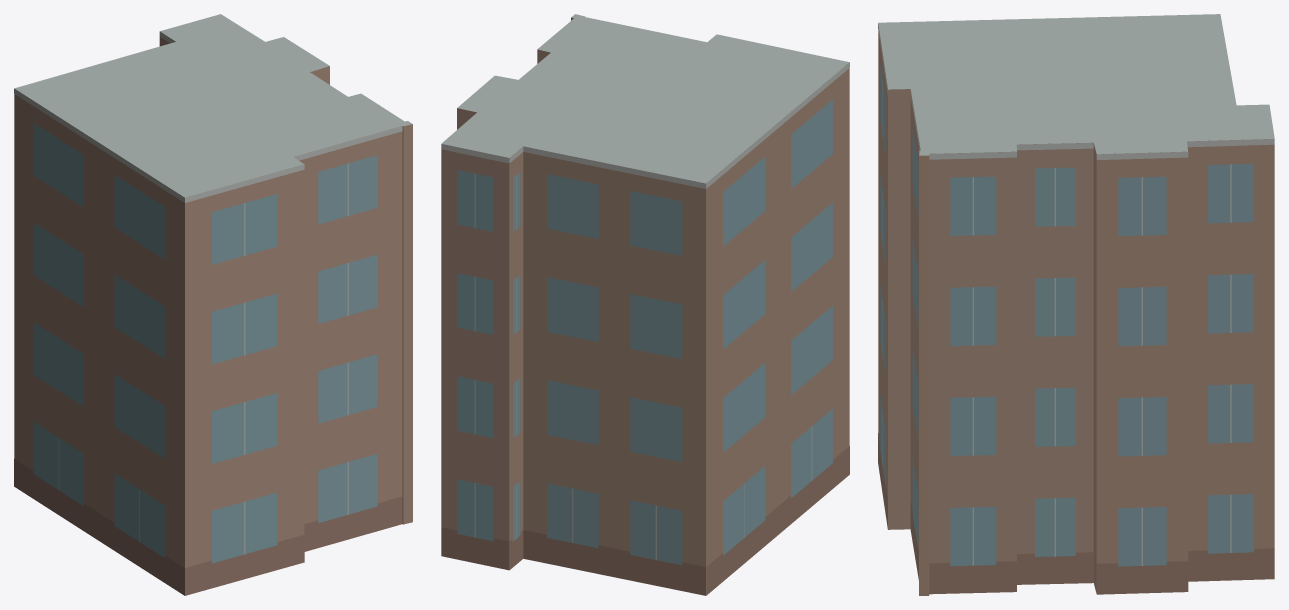
Rendered from survey-upis-32823129.glb.
3 views of the same model, side by side, from view 1: azimuth 30°, elevation 25°; view 2: azimuth 150°, elevation 25°; view 3: azimuth 270°, elevation 25° (orthographic). The views are drawn at different scales.
Visible parts, largest first — view 1: survey-upis-32823129.tmp; view 2: survey-upis-32823129.tmp; view 3: survey-upis-32823129.tmp.
Part boxes in pixels (bbox=[...]): survey-upis-32823129.tmp: bbox=[14, 14, 412, 595]; survey-upis-32823129.tmp: bbox=[441, 14, 849, 595]; survey-upis-32823129.tmp: bbox=[878, 14, 1274, 595].
Bounding box in the file's own units: 12.56 × 18.2 × 14.87.
